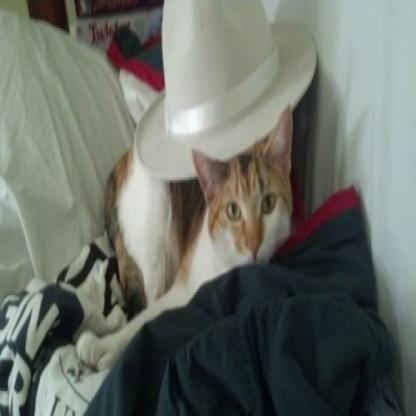Target: (78, 92, 291, 364)
